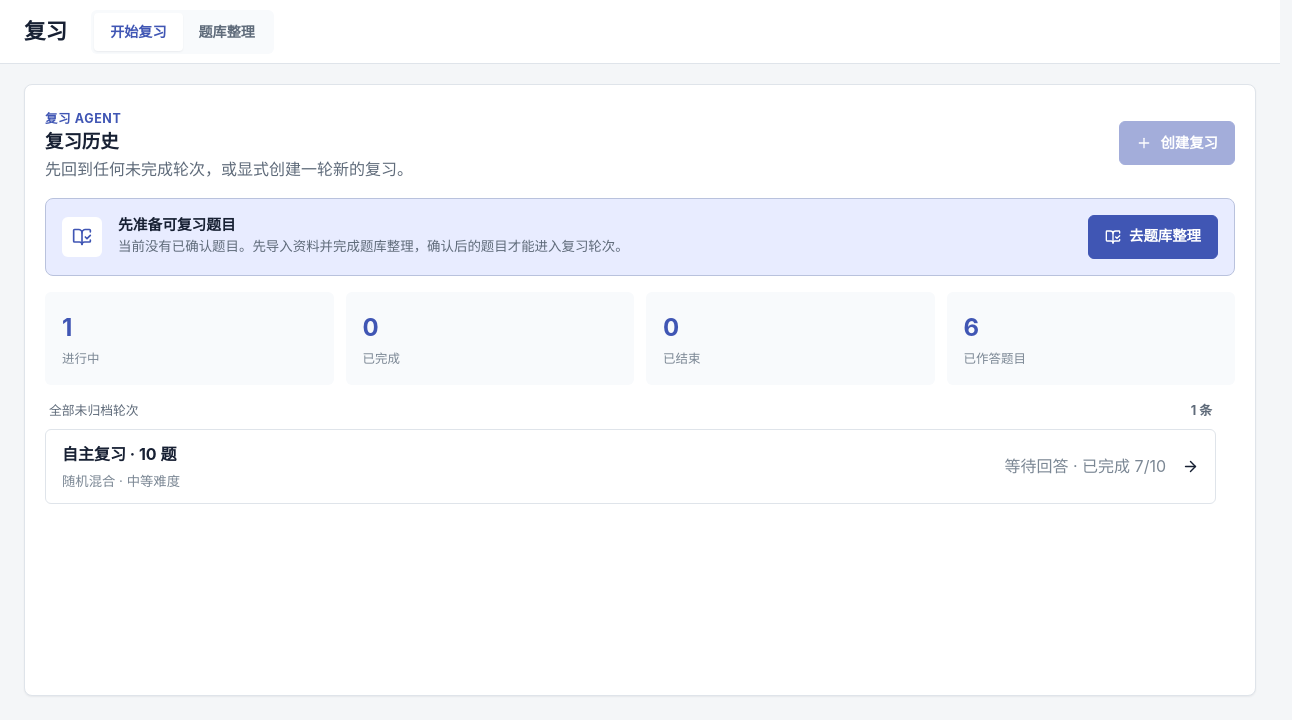
Test: R2 ReviewPage › expands omitted questions and opens a hidden completed question
Click the button "10 题". click: (94, 454)
box: left=46, top=430, right=1215, bottom=504
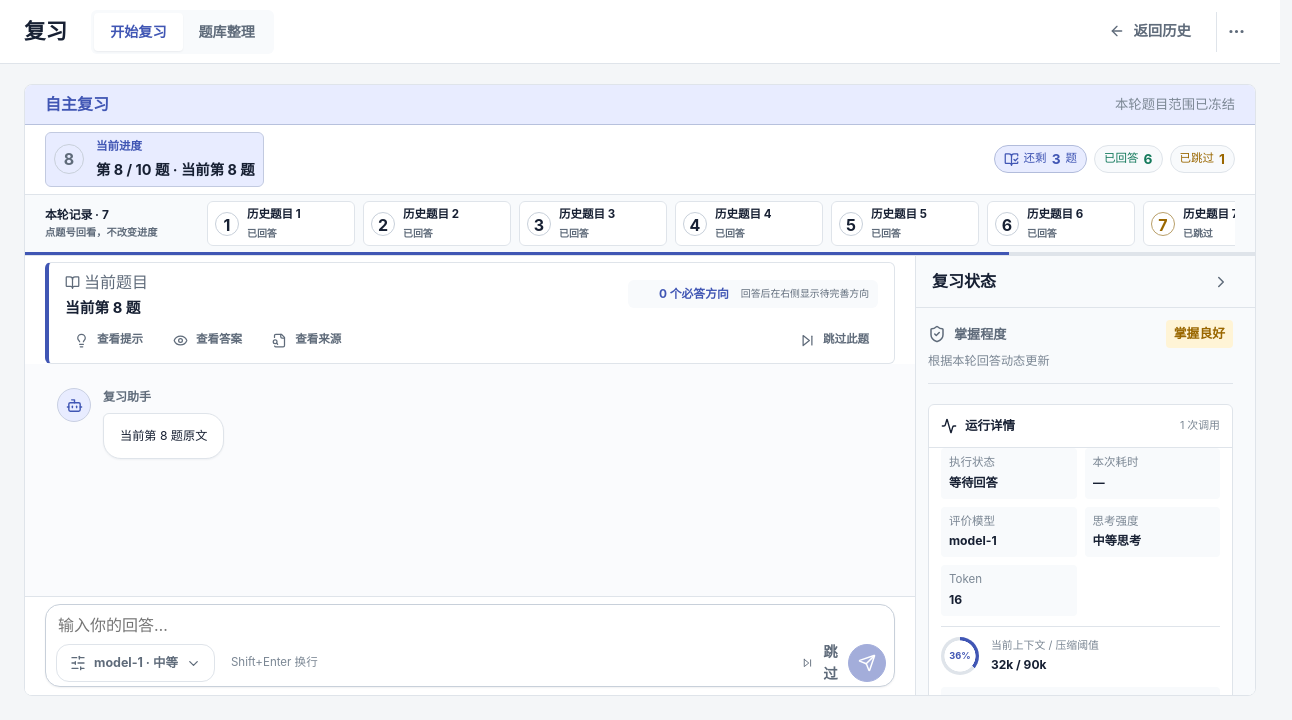
Result: the element named "本轮答题统计" shows "还剩 3 题" at left=994, top=145, right=1235, bottom=173
Click the button with aria-label "回看第 4 题：历史题目 4，已回答". click: (749, 224)
box: left=675, top=201, right=823, bottom=246
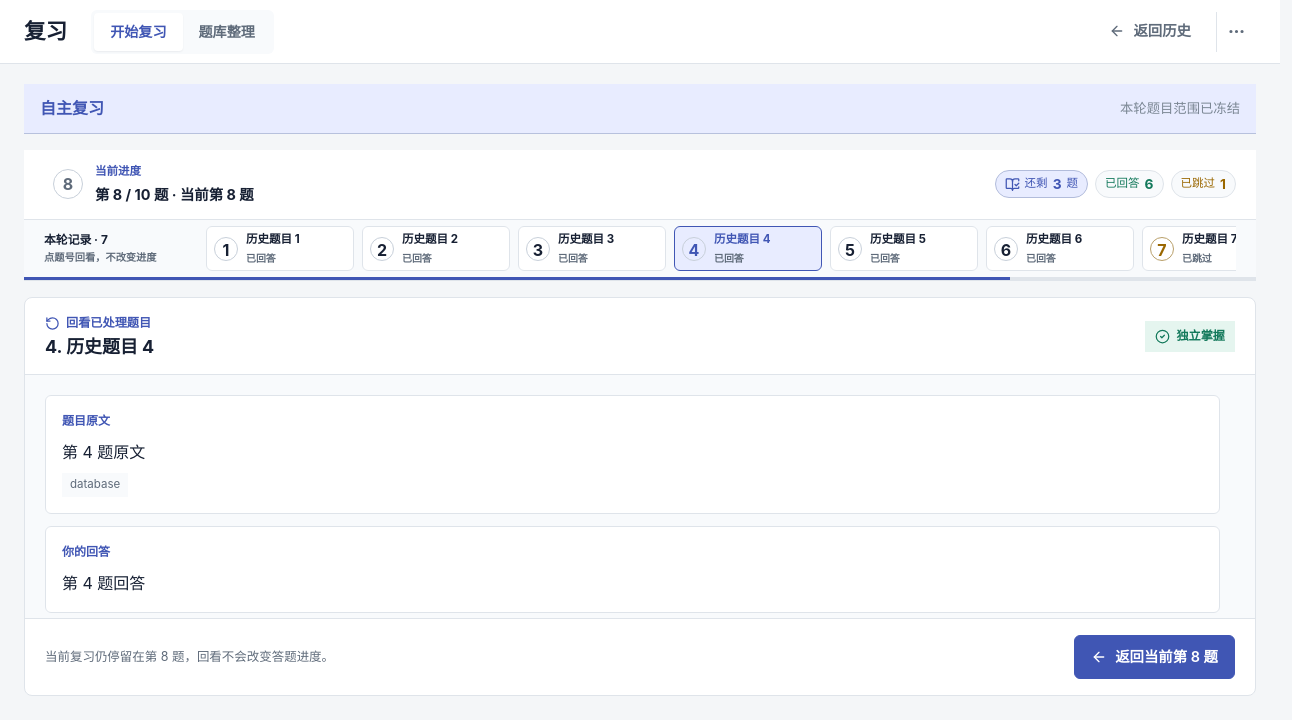
Result: the navigation bar named "已回答和跳过的题目" is shown at left=24, top=219, right=1256, bottom=277
Result: the element named "回看第 4 题" shows "第 4 题回答" at left=62, top=573, right=145, bottom=593
